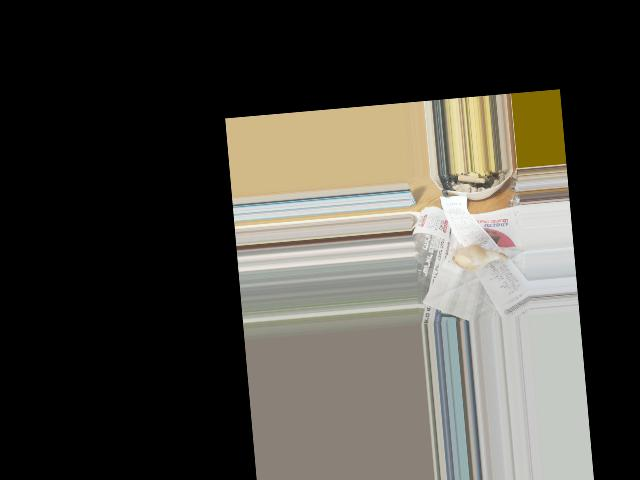onion: (452, 245, 489, 269)
